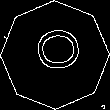O_W: (29, 33, 81, 77)
